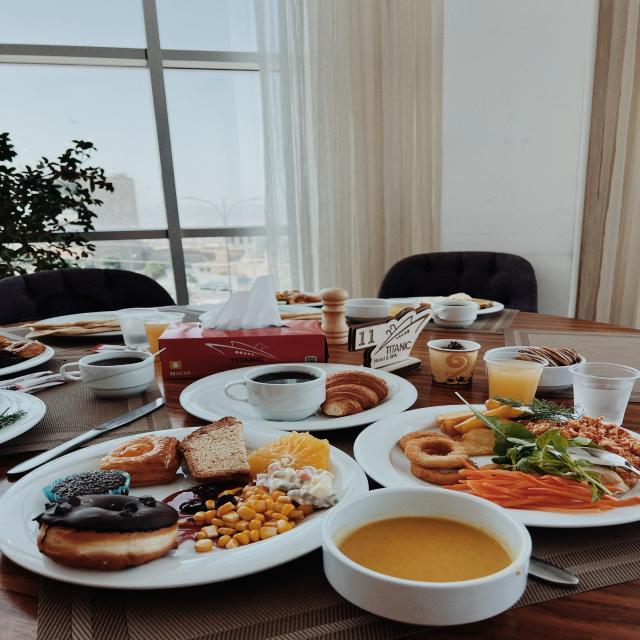a glass: (548, 345, 633, 438), (478, 346, 552, 425)
cup: (228, 359, 358, 427), (64, 344, 186, 414), (421, 294, 500, 327)
television: (27, 444, 324, 635), (381, 395, 640, 538), (315, 494, 548, 619)
